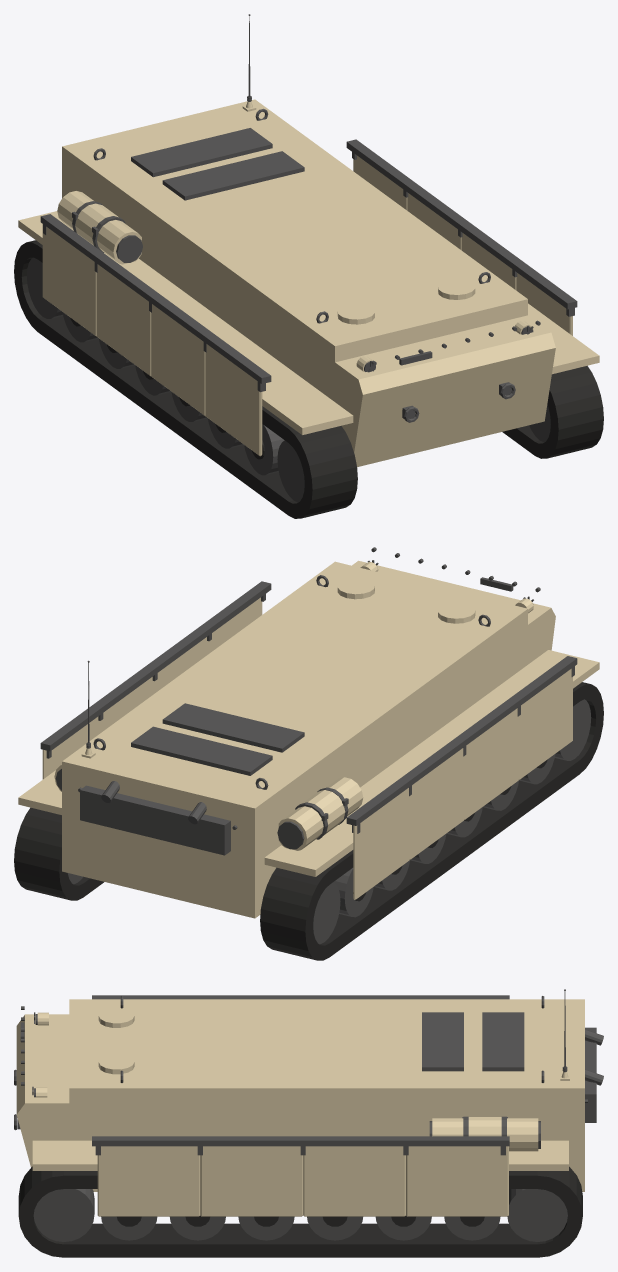
File: medium_hull_standard.glb
3 renders of one model, top to bottom at view 1: azimuth 30°, elevation 25°; view 2: azimuth 150°, elevation 25°; view 3: azimuth 270°, elevation 25°, orthographic. The views are drawn at different scales.
Visible parts, largest first — view 1: hull_body, track_right, fender_right, track_left, skirt_plate_r0, skirt_plate_r1, skirt_plate_r2, skirt_plate_r3, skirt_rail_l_trim_dark, skirt_rail_r_trim_dark, engine_grille_0, engine_grille_1 (+12 smaller); view 2: hull_body, track_right, fender_right, exhaust_muffler, track_left, skirt_plate_r3, skirt_plate_r1, skirt_plate_r2, skirt_plate_r0, skirt_rail_r_trim_dark, skirt_rail_l_trim_dark, engine_grille_0 (+13 smaller); view 3: hull_body, track_left, skirt_plate_l1, skirt_plate_l0, skirt_plate_l2, skirt_plate_l3, skirt_rail_l_trim_dark, fender_left, wheel_sprocket_l, wheel_idler_l, engine_grille_1, engine_grille_0 (+12 smaller).
Part boxes in pixels (x1,y1,x2,y2): hull_body: (62, 99, 555, 467); track_right: (14, 240, 357, 518); fender_right: (18, 211, 353, 434); track_left: (502, 365, 603, 458); skirt_plate_r0: (205, 344, 262, 456); skirt_plate_r1: (151, 304, 205, 416); skirt_plate_r2: (97, 264, 151, 376); skirt_plate_r3: (42, 224, 96, 336); skirt_rail_l_trim_dark: (346, 139, 577, 309); skirt_rail_r_trim_dark: (40, 214, 271, 383); engine_grille_0: (162, 151, 304, 200); engine_grille_1: (131, 128, 272, 177); hull_body: (62, 560, 555, 918); track_right: (260, 682, 603, 960); fender_right: (264, 650, 599, 876); exhaust_muffler: (80, 785, 230, 855); track_left: (14, 807, 103, 900); skirt_plate_r3: (353, 788, 409, 899); skirt_plate_r1: (464, 708, 518, 820); skirt_plate_r2: (409, 748, 463, 859); skirt_plate_r0: (518, 668, 572, 779); skirt_rail_r_trim_dark: (346, 656, 577, 825); skirt_rail_l_trim_dark: (40, 581, 271, 751); engine_grille_0: (162, 703, 304, 752); hull_body: (16, 999, 584, 1191); track_left: (18, 1166, 582, 1257); skirt_plate_l1: (200, 1146, 303, 1216); skirt_plate_l0: (97, 1146, 200, 1216); skirt_plate_l2: (303, 1146, 405, 1216); skirt_plate_l3: (406, 1146, 508, 1216); skirt_rail_l_trim_dark: (92, 1136, 509, 1146); fender_left: (32, 1140, 568, 1170); wheel_sprocket_l: (33, 1189, 94, 1241); wheel_idler_l: (507, 1189, 567, 1241); engine_grille_1: (482, 1012, 524, 1071); engine_grille_0: (422, 1012, 463, 1071).
Size of the model in its own units: 3.27 by 2.5 by 5.61.
